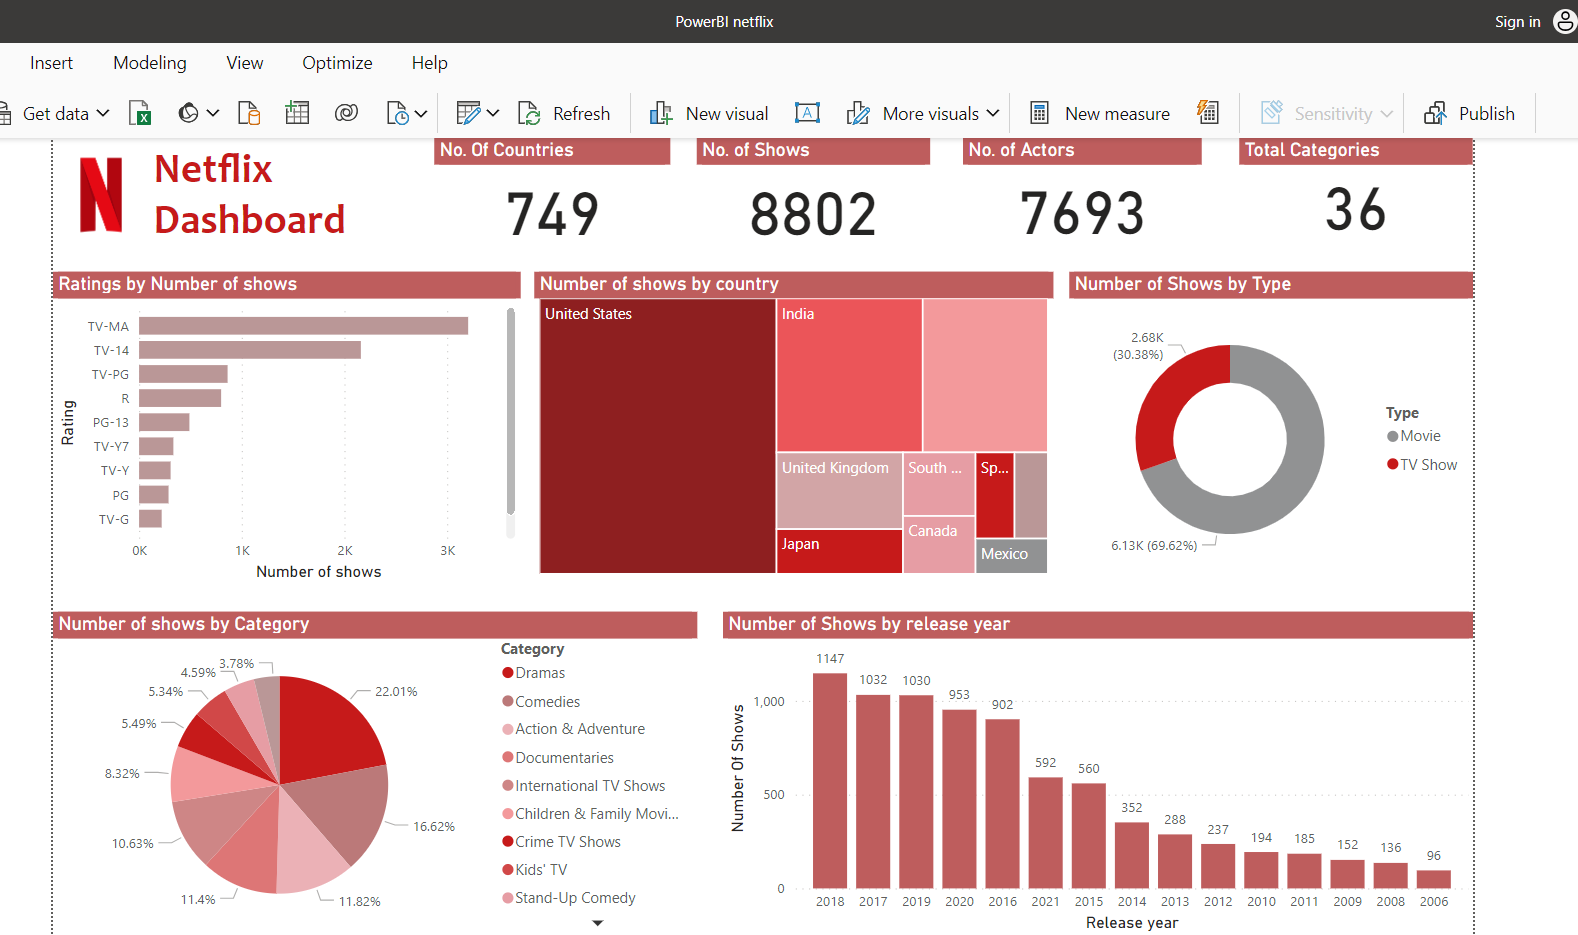

What the dashboard file says about the page in this screenshot:
{"tool":"powerbi","page":{"name":"Page 1","canvas":[1280,720],"ordinal":0},"visuals":[{"type":"textbox","box":[86,0,248.8,102.3],"z":0},{"type":"card","title":"No. Of Countries ","fields":{"Values":["Count(netflix_titles.country)"]},"box":[344.2,0,212.8,103.5],"z":1000},{"type":"card","title":"No. of Shows","fields":{"Values":["Count(netflix_titles.title)"]},"box":[580.2,0,210.5,103.5],"z":2000},{"type":"card","title":"No. of Actors","fields":{"Values":["Count(netflix_titles.cast)"]},"box":[819.8,0,215.1,102.3],"z":4000},{"type":"clusteredColumnChart","title":"Number of Shows by release year","fields":{"Category":["netflix_titles.release_year"],"Y":["CountNonNull(netflix_titles.Title)"]},"box":[603.9,426.6,677.2,293.4],"z":5000},{"type":"donutChart","title":"Number of Shows by Type","fields":{"Category":["netflix_titles.type"],"Y":["CountNonNull(netflix_titles.Title)"]},"box":[915.6,121,364.3,283.6],"z":6000},{"type":"treemap","title":"Number of shows by country","fields":{"Group":["netflix_titles.country"],"Values":["Count(netflix_titles.Title)"]},"box":[434,121,468.2,277.5],"z":7000},{"type":"card","title":"Total Categories","fields":{"Values":["Count(netflix_titles.Category)"]},"box":[1069.8,0,210.5,95.3],"z":8000},{"type":"pieChart","title":"Number of shows by Category","fields":{"Y":["Count(netflix_titles.title)"],"Category":["netflix_titles.Category"]},"box":[0,426.6,580.6,293.4],"z":9000},{"type":"clusteredBarChart","title":"Ratings by Number of shows","fields":{"Category":["netflix_titles.rating"],"Y":["Count(netflix_titles.Title)"]},"box":[0,121,421.7,283.6],"z":10000},{"type":"image","box":[0,9.8,85.6,81.9],"z":11000}]}

Visuals, with their boxes on the page's 1280x720 design canvas (x1, y1, x2, y2). These are canvas units, not pixel positions in the 1578x935 screenshot, which may show the page scaled, cropped or inside an application window:
textbox: region(86, 0, 335, 102)
"No. Of Countries " card: region(344, 0, 557, 104)
"No. of Shows" card: region(580, 0, 791, 104)
"No. of Actors" card: region(820, 0, 1035, 102)
"Number of Shows by release year" clusteredColumnChart: region(604, 427, 1281, 720)
"Number of Shows by Type" donutChart: region(916, 121, 1280, 405)
"Number of shows by country" treemap: region(434, 121, 902, 398)
"Total Categories" card: region(1070, 0, 1280, 95)
"Number of shows by Category" pieChart: region(0, 427, 581, 720)
"Ratings by Number of shows" clusteredBarChart: region(0, 121, 422, 405)
image: region(0, 10, 86, 92)
